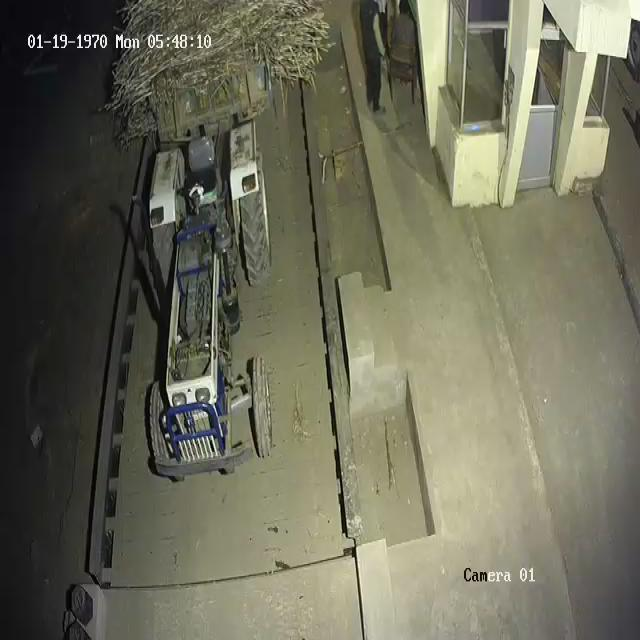Tratores - v5 YOLO V8L 2024-11-13: (143, 146, 282, 484)
